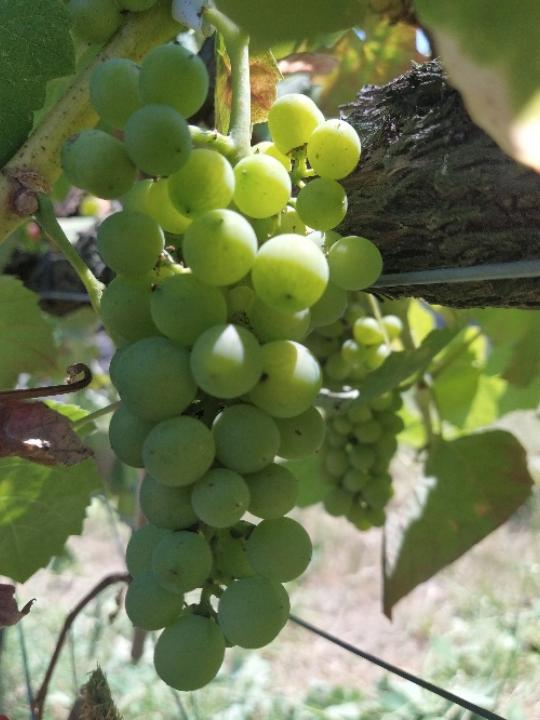grape: (55, 43, 385, 694)
